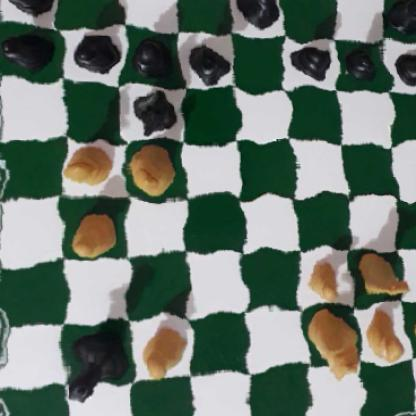black-bishop: (185, 41, 234, 88)
black-king: (234, 0, 282, 30)
black-knight: (130, 86, 185, 139)
black-pawn: (69, 28, 116, 76), (128, 36, 174, 80), (3, 30, 50, 69), (293, 39, 331, 85), (341, 45, 381, 84), (396, 48, 416, 88)
black-queen: (59, 323, 125, 408)
black-rook: (386, 0, 416, 38), (0, 0, 57, 19)
white-bishop: (63, 142, 115, 188), (128, 147, 178, 193)
white-king: (307, 310, 359, 380)
white-knight: (355, 252, 413, 302)
white-pawn: (64, 209, 120, 259), (138, 327, 185, 381), (360, 309, 404, 363), (305, 260, 345, 306), (412, 310, 416, 363)
